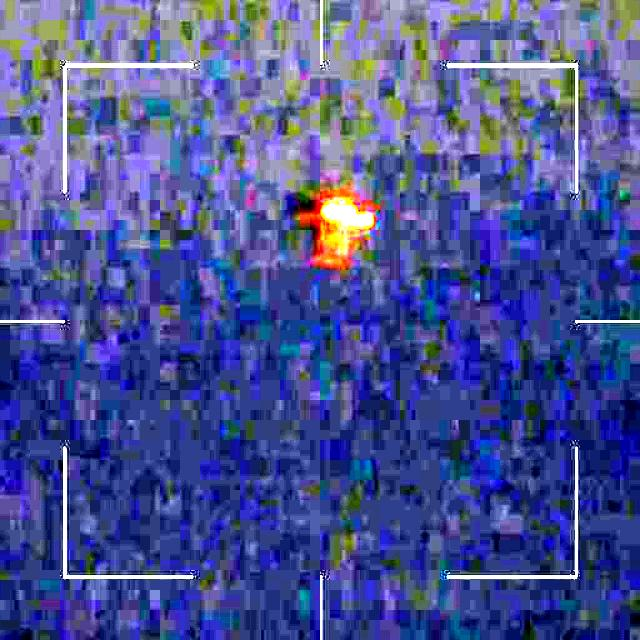bird: (290, 195, 386, 274)
